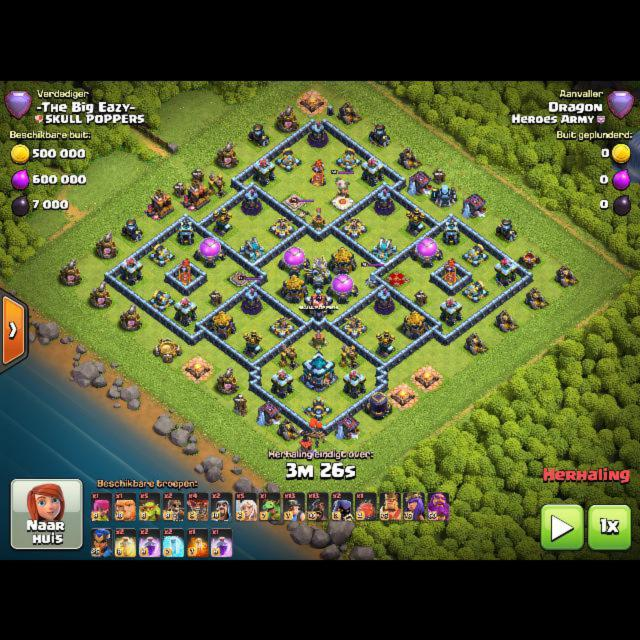AD: (405, 206, 426, 236), (375, 328, 395, 358), (242, 329, 262, 358), (212, 207, 232, 236)
AirSweeper: (309, 207, 327, 232), (309, 329, 328, 350)
BombTower: (443, 218, 460, 245), (178, 218, 194, 244)
Canon: (335, 147, 362, 171), (305, 395, 331, 419), (148, 243, 175, 266), (462, 279, 489, 302), (275, 147, 301, 170), (462, 243, 488, 266), (148, 289, 175, 311)
ClanCastle: (304, 286, 333, 320)
Eagle: (304, 254, 332, 289)
Inferno: (310, 158, 327, 186), (442, 258, 458, 285), (177, 258, 193, 285)
KingPad: (283, 193, 306, 210)
Mortar: (247, 122, 270, 146), (495, 217, 518, 241), (121, 218, 144, 242), (368, 122, 390, 147)
QueenPad: (385, 269, 410, 287)
RcPad: (230, 271, 249, 286)
Scattershot: (240, 236, 265, 261), (372, 236, 397, 261)
TH13: (302, 350, 335, 390)
WardenPad: (331, 192, 353, 209)
WizzTower: (308, 120, 328, 147), (241, 188, 261, 215), (374, 188, 394, 215), (241, 287, 261, 314), (374, 287, 394, 314)
Xbow: (341, 315, 367, 338), (269, 216, 295, 239), (341, 216, 367, 239), (269, 315, 296, 337)
